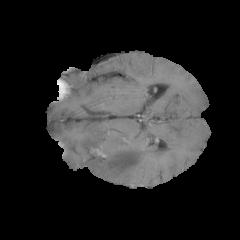glioma: (85, 134, 146, 183)
